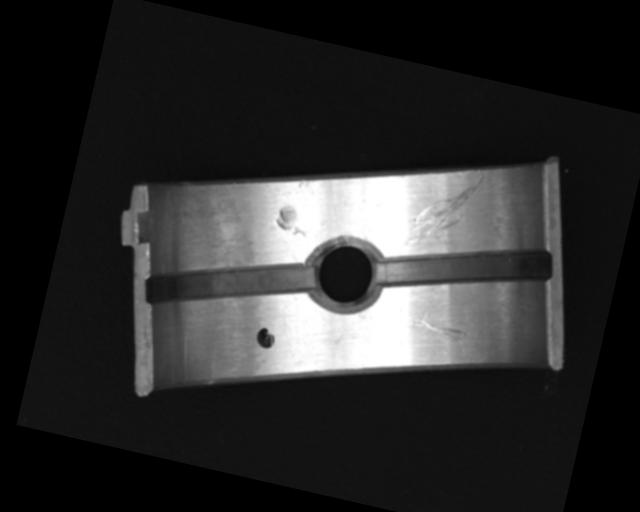blot: (253, 325, 278, 350)
bruise: (274, 202, 311, 236), (296, 176, 315, 192)
gap: (373, 214, 556, 319), (143, 231, 316, 339)
hole: (304, 231, 388, 320)
nick: (400, 161, 482, 262), (408, 314, 469, 342)
